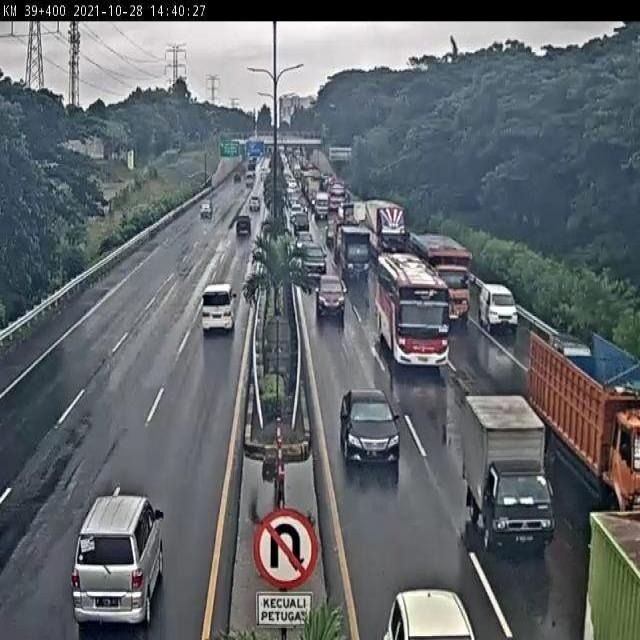big bus: (374, 249, 445, 364)
car: (71, 500, 167, 625), (340, 388, 403, 468), (202, 278, 241, 330), (478, 284, 518, 331), (314, 273, 345, 319), (304, 244, 326, 272), (232, 221, 251, 243)
mid truck: (528, 332, 640, 484), (412, 224, 474, 316)
small truck: (461, 396, 551, 548), (339, 222, 374, 282)
